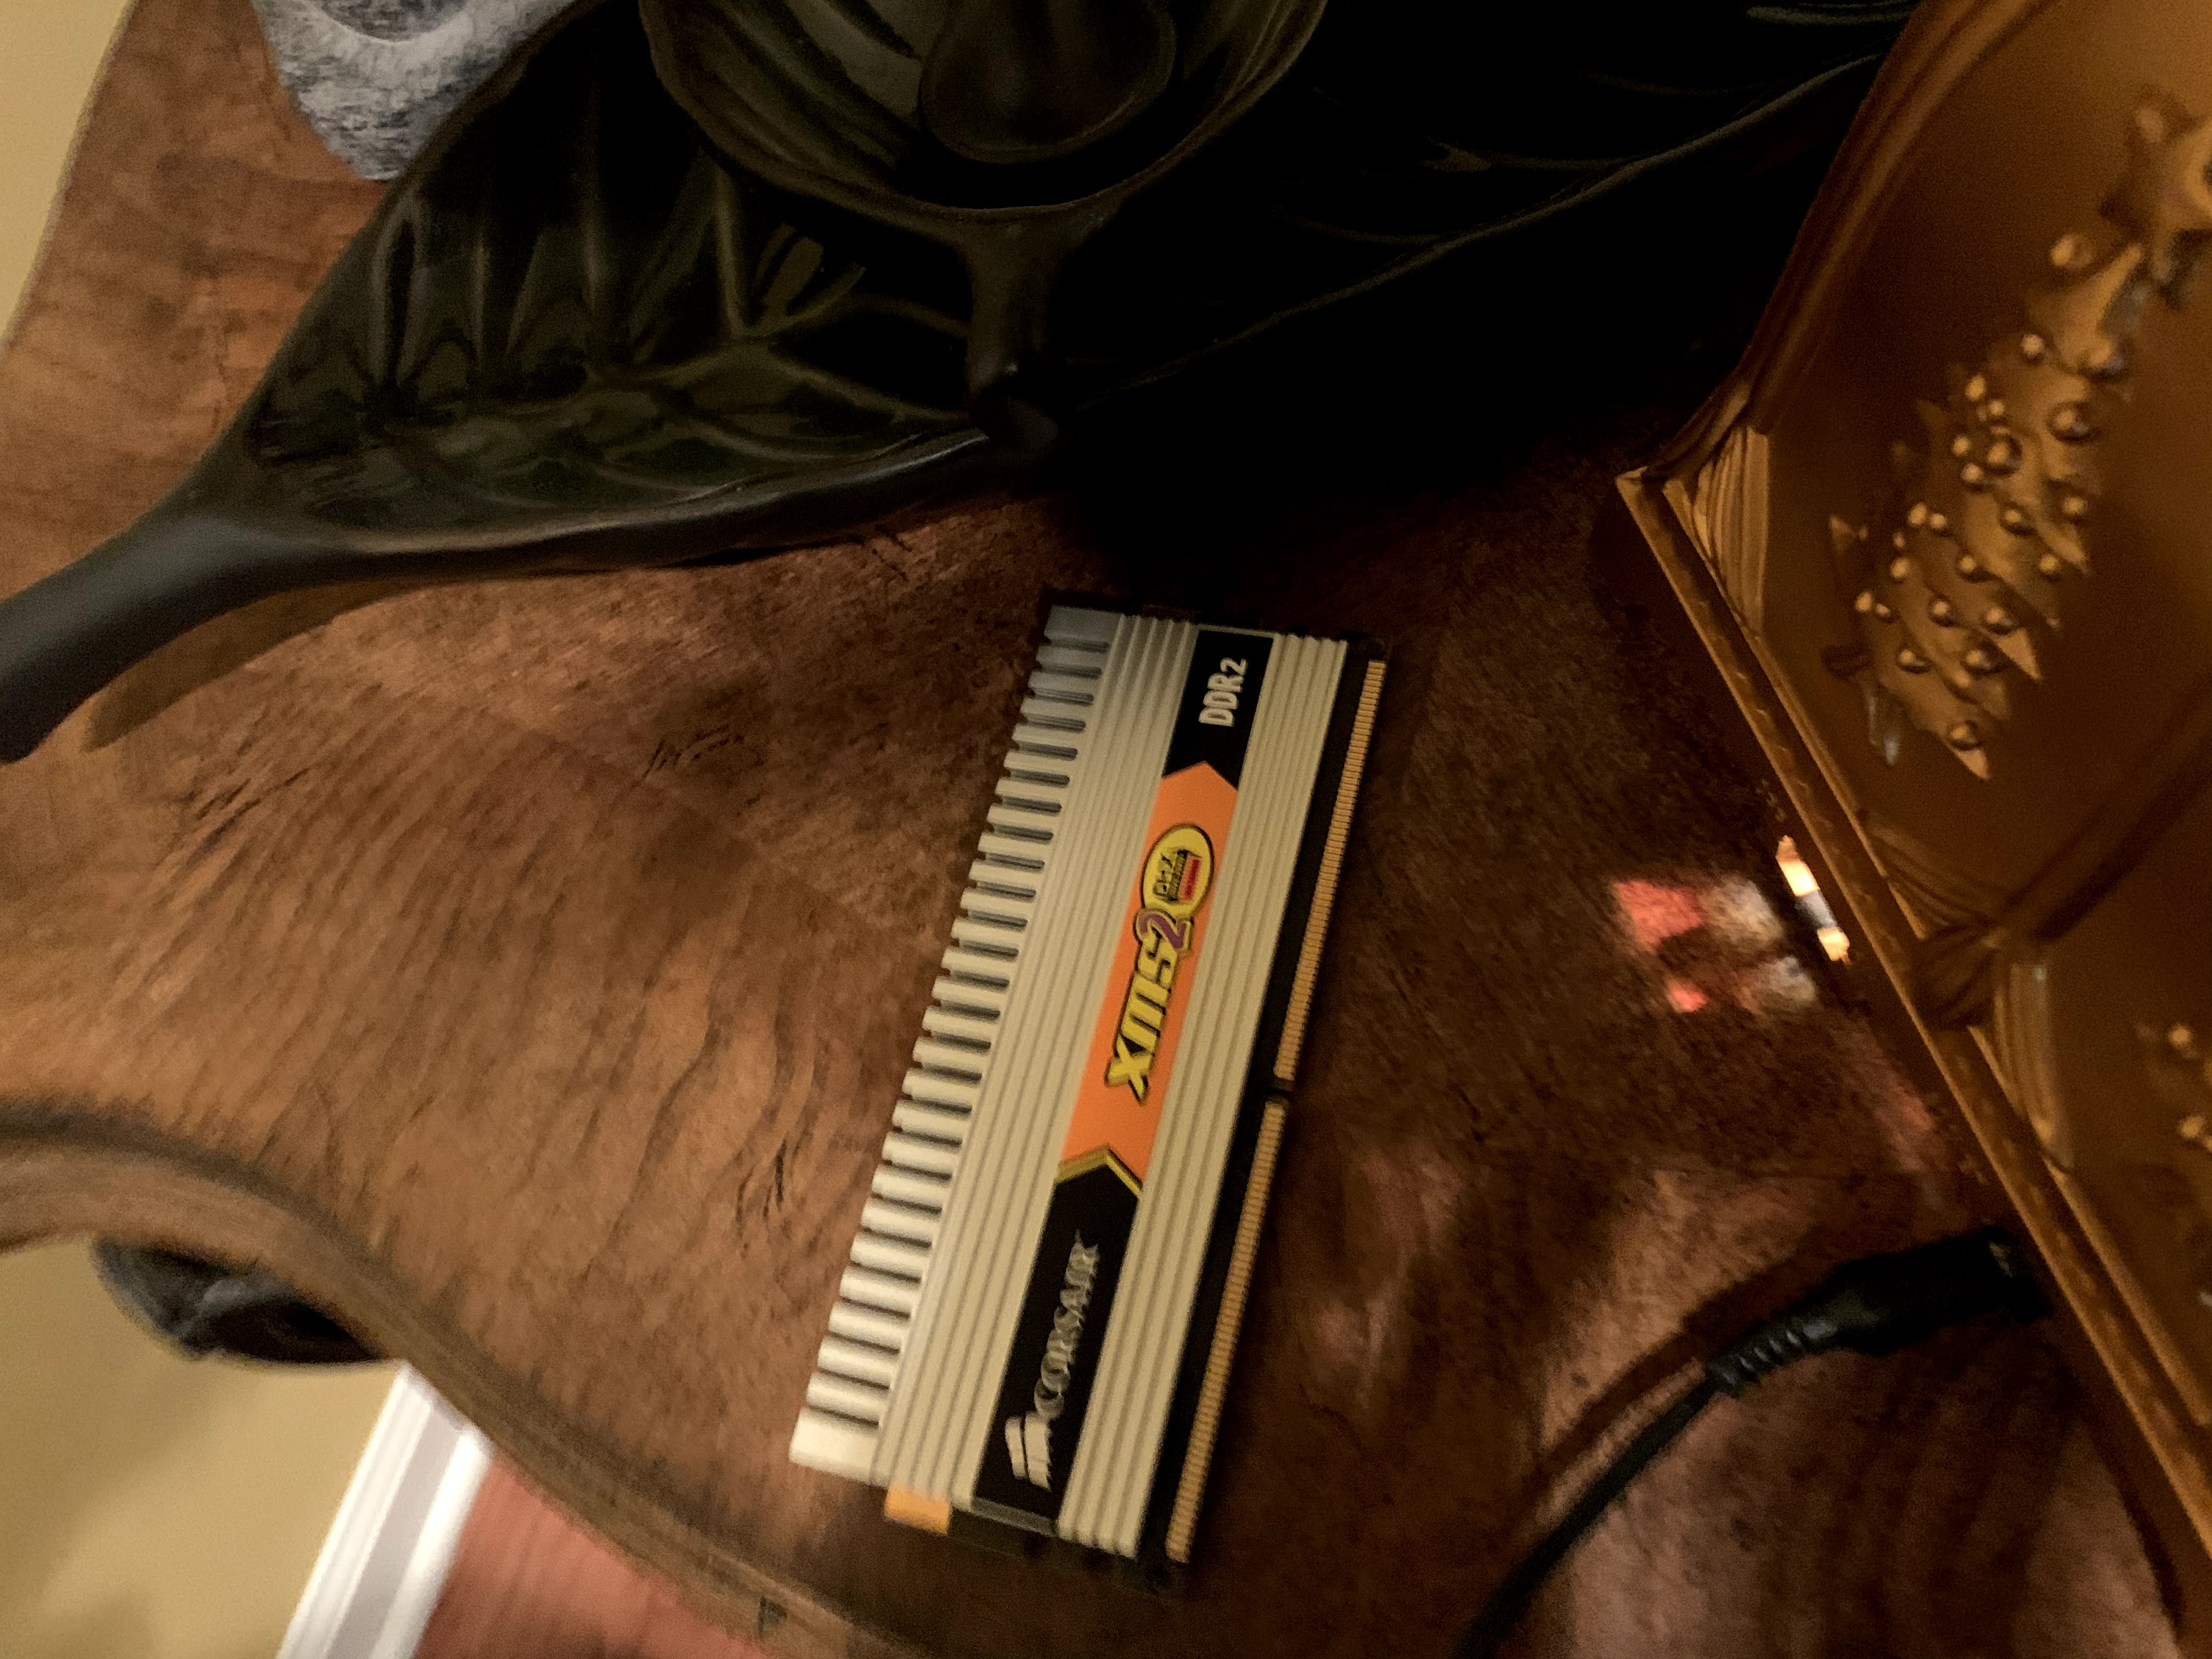Space-debris-medium: (808, 556, 1385, 1584)
